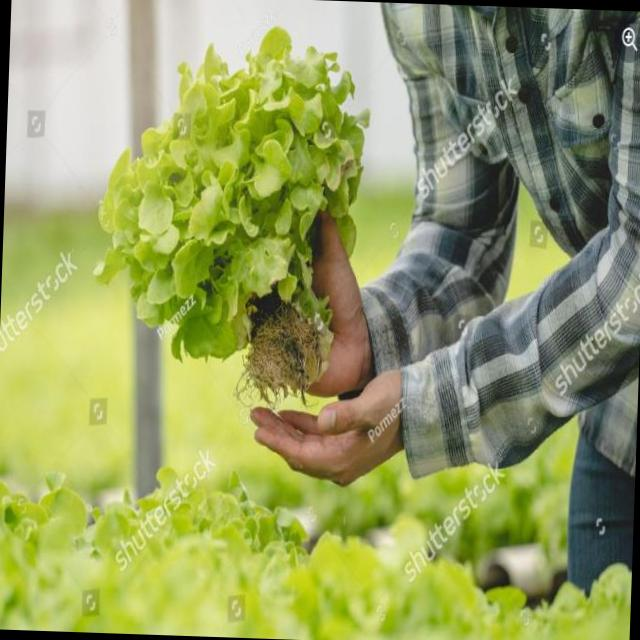Lettuce-Ready-to-Harvest: (91, 24, 392, 375)
